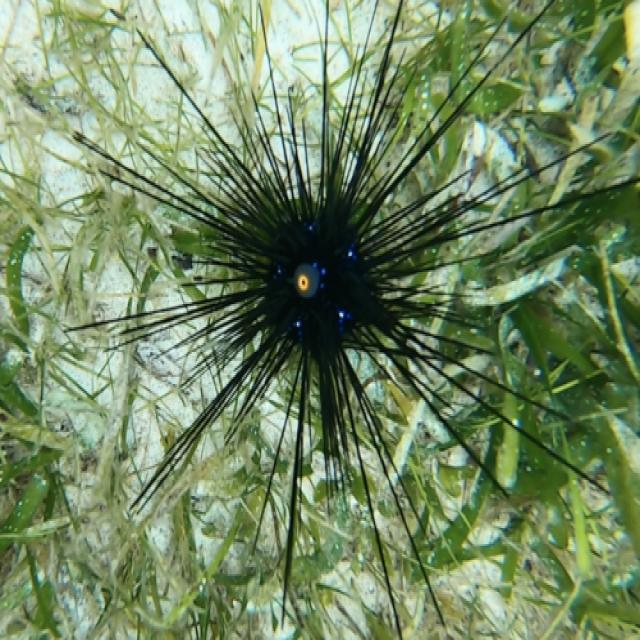Urchin: (35, 4, 608, 624)
